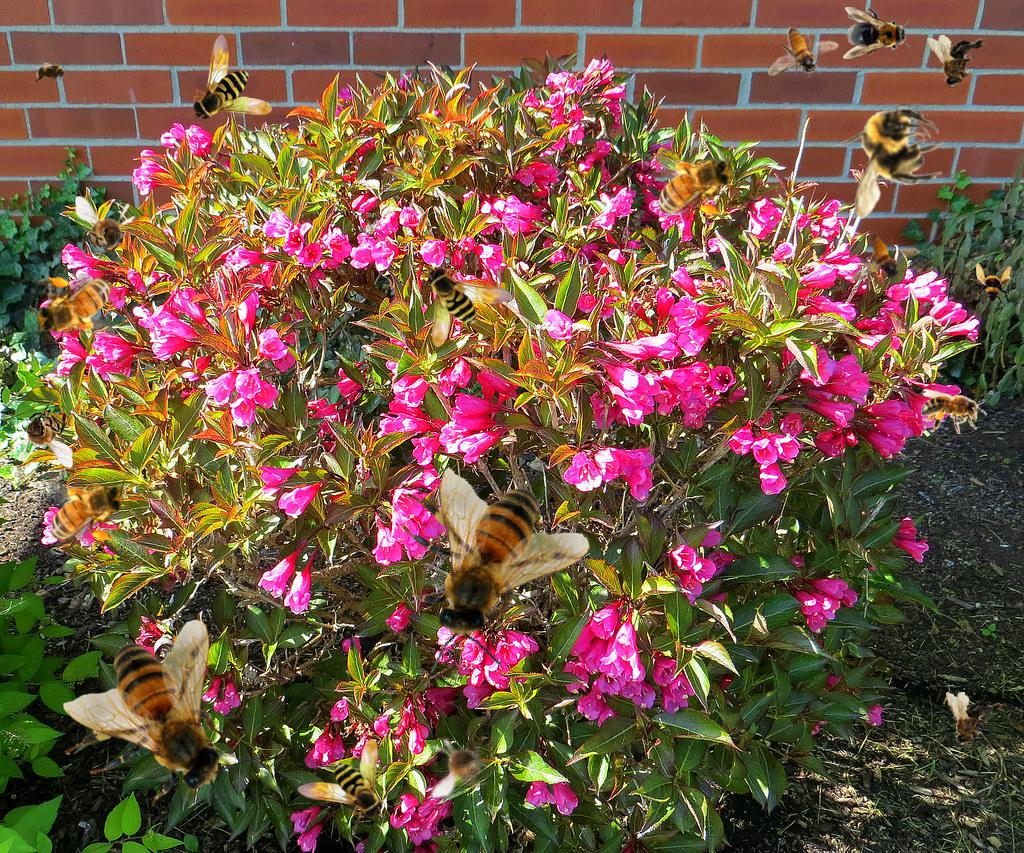Bee: (345, 424, 622, 700), (63, 619, 262, 823), (836, 104, 943, 219), (425, 265, 513, 347), (297, 739, 385, 821), (190, 34, 272, 122), (38, 477, 131, 545), (30, 273, 123, 341), (646, 151, 739, 219), (422, 729, 501, 801), (937, 689, 1008, 753), (75, 196, 136, 266), (12, 398, 73, 468), (768, 27, 839, 77), (851, 233, 922, 283), (843, 7, 911, 59), (927, 35, 989, 88), (921, 389, 987, 434), (969, 263, 1013, 307), (31, 62, 71, 84)
